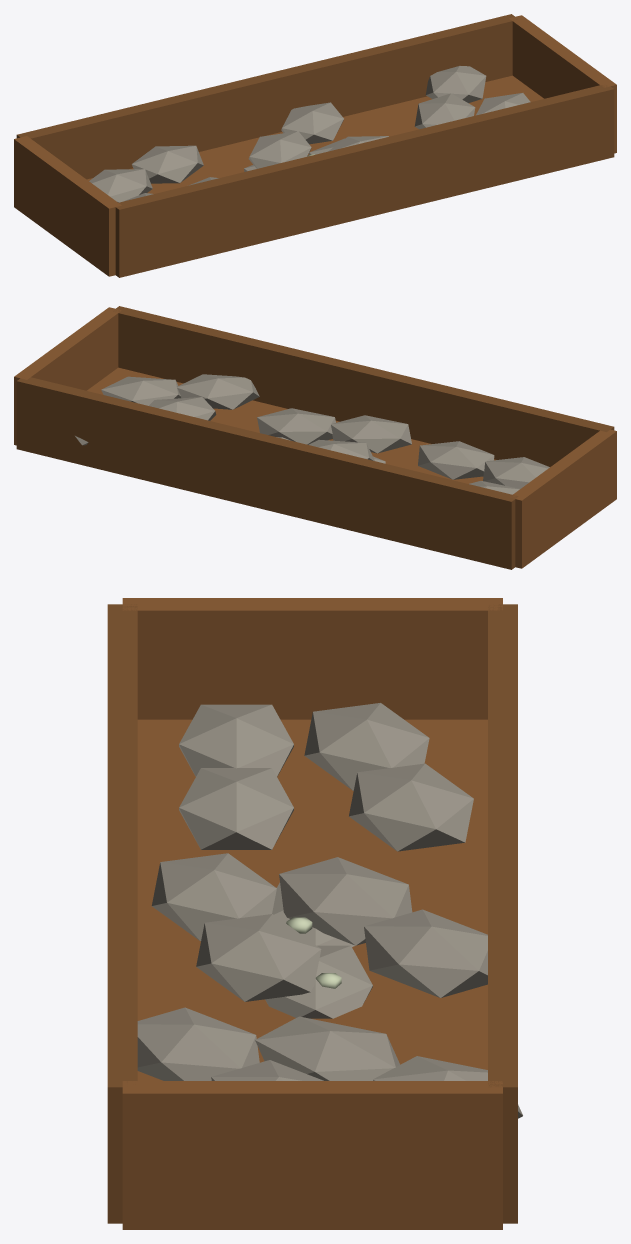
File: Sea_Oyster.fbx
3 views of the same model, one above another, from view 1: azimuth 30°, elevation 25°; view 2: azimuth 150°, elevation 25°; view 3: azimuth 270°, elevation 25° (orthographic). The views are drawn at different scales.
Parts seen in each view (by area): view 1: Sea_Oyster__Stack; view 2: Sea_Oyster__Stack; view 3: Sea_Oyster__Stack, Sea_Oyster.
Boxes of the visible parts, <box> form: Sea_Oyster__Stack: <box>14,14,616,277</box>; Sea_Oyster__Stack: <box>14,306,616,569</box>; Sea_Oyster__Stack: <box>107,598,522,1229</box>; Sea_Oyster: <box>265,882,372,1018</box>.
Size of the model in its own units: 0.3122 by 0.04 by 0.1107.
